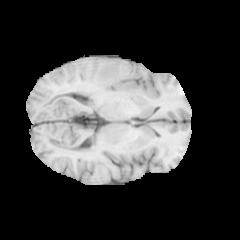glioma: (74, 58, 133, 99)
